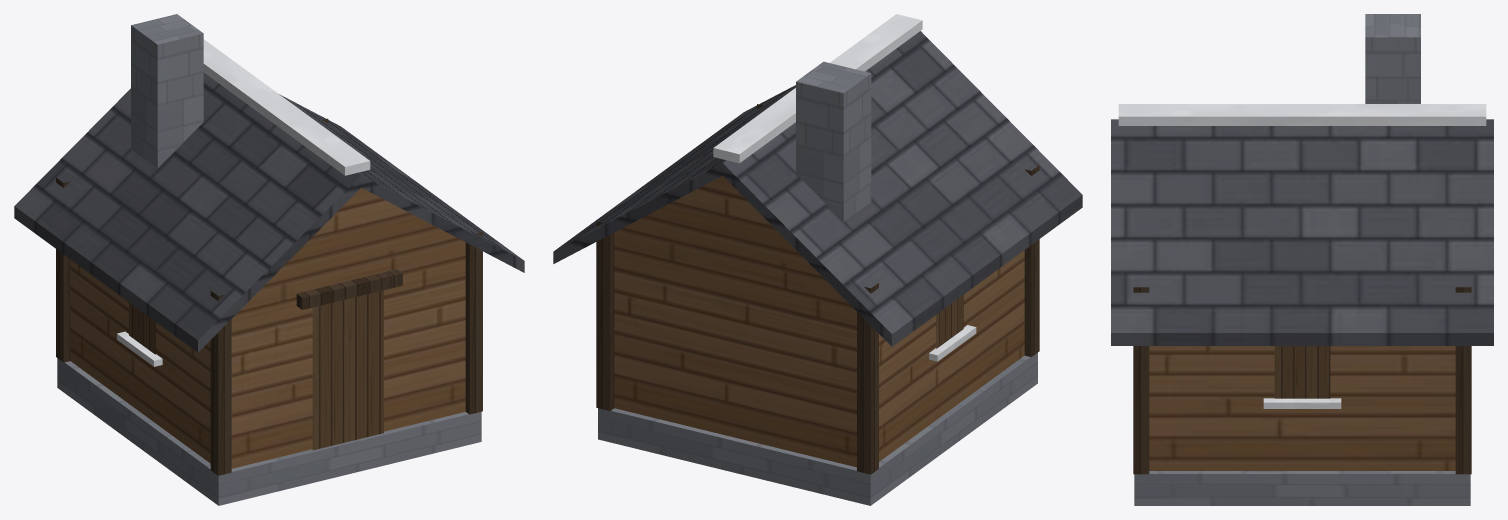
File: ae_snow_wood_small_hut_lod1.glb
3 views of the same model, side by side, from view 1: azimuth 30°, elevation 25°; view 2: azimuth 150°, elevation 25°; view 3: azimuth 270°, elevation 25° (orthographic). The views are drawn at different scales.
Parts seen in each view (by area): view 1: ae_snow_wood_small_hut_lod1; view 2: ae_snow_wood_small_hut_lod1; view 3: ae_snow_wood_small_hut_lod1.
Part boxes in pixels (left/top/right/bottom): ae_snow_wood_small_hut_lod1: left=14, top=14, right=524, bottom=505; ae_snow_wood_small_hut_lod1: left=553, top=14, right=1082, bottom=505; ae_snow_wood_small_hut_lod1: left=1111, top=14, right=1493, bottom=505.
Size of the model in its own units: 3.9 by 4.2 by 3.8.
1 material, 1 textured.
